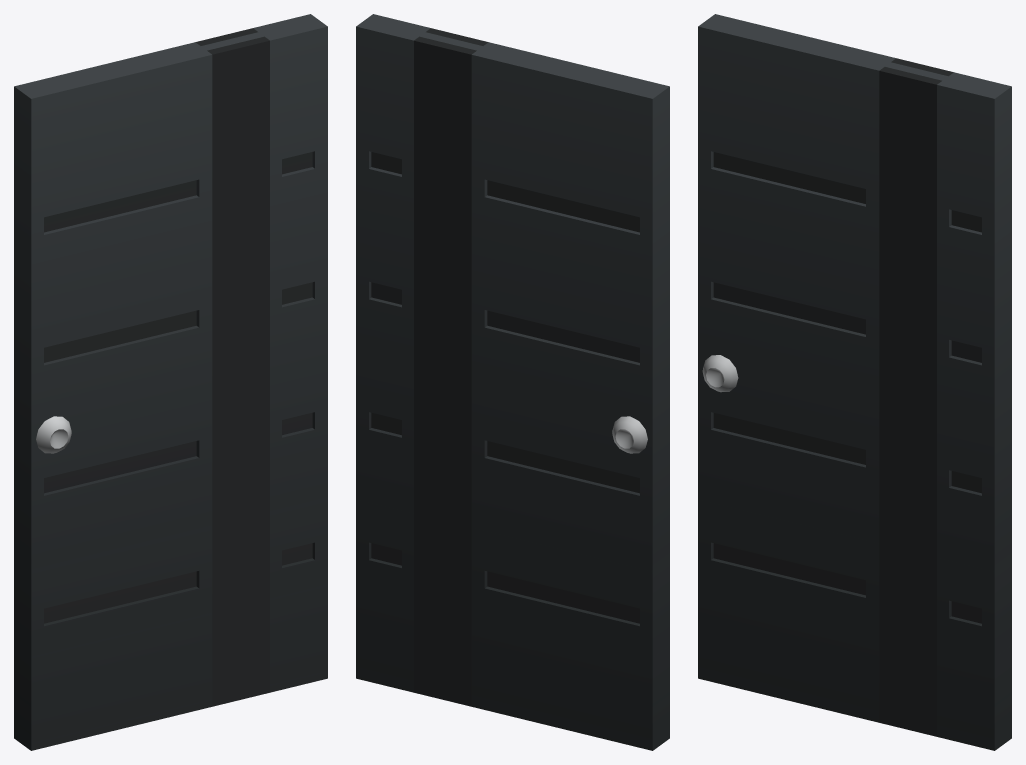
Rendered from Door_Black_09.glb.
3 renders of one model, left to right at view 1: azimuth 30°, elevation 25°; view 2: azimuth 150°, elevation 25°; view 3: azimuth 330°, elevation 25°, orthographic.
Visible parts, largest first — view 1: Door_Black_09; view 2: Door_Black_09; view 3: Door_Black_09.
Boxes of the visible parts, <box> form: Door_Black_09: <box>14,14,327,750</box>; Door_Black_09: <box>356,14,669,750</box>; Door_Black_09: <box>698,14,1011,750</box>.
Bounding box in the file's own units: 1 × 2.1 × 0.1634.
1 material, 1 textured.
